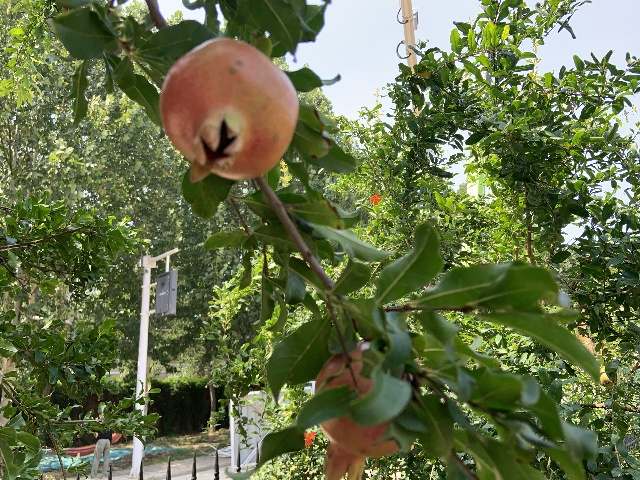flower: (302, 430, 315, 448), (369, 195, 381, 206)
ripe: (159, 38, 299, 183), (315, 341, 398, 480)
